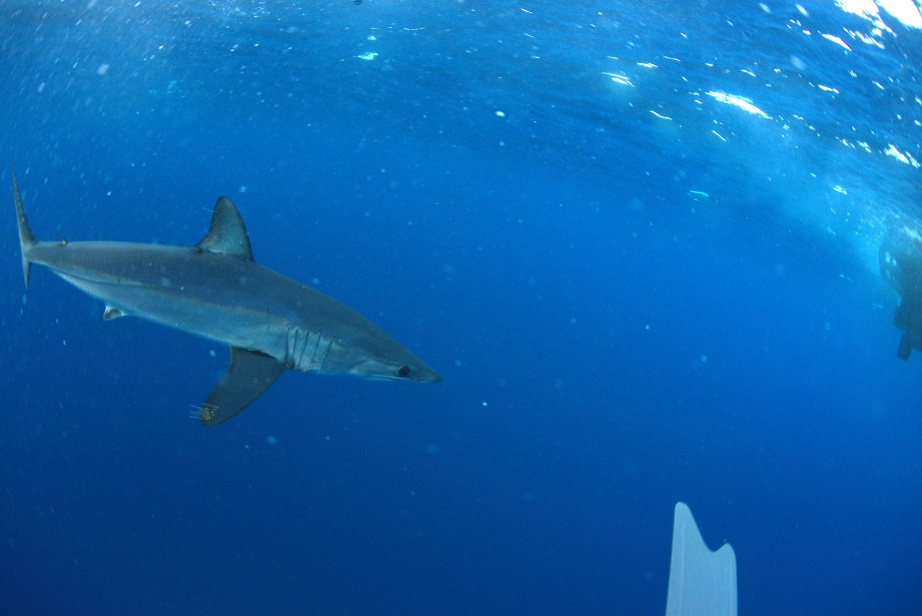Mako: (2, 147, 462, 438)
